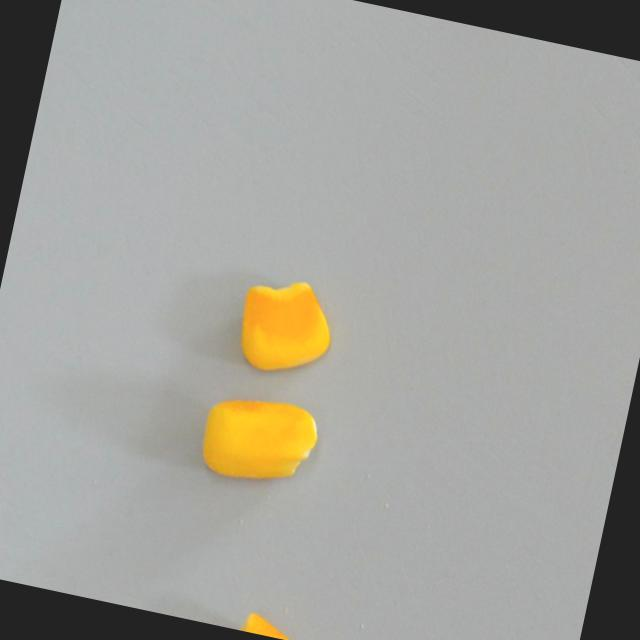no_canjicado: (195, 388, 321, 494), (232, 269, 341, 384), (201, 599, 301, 640)
